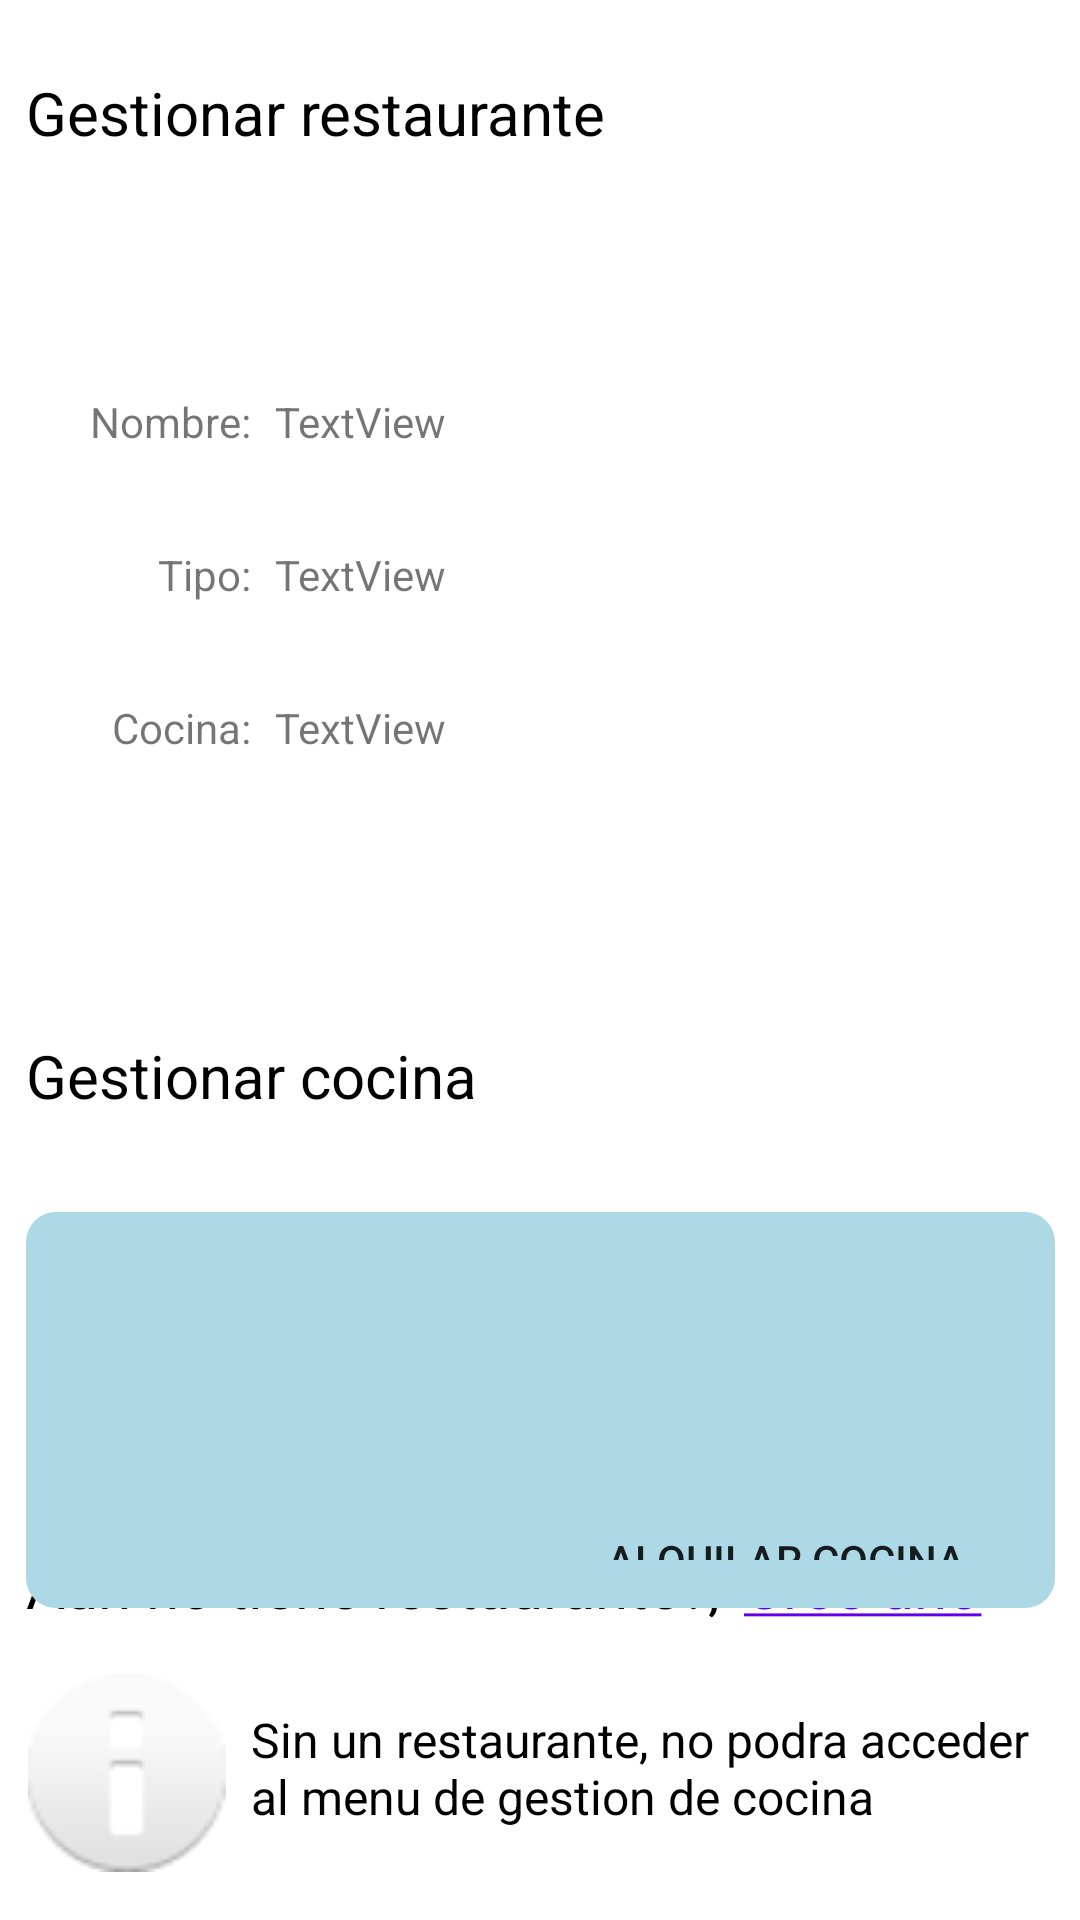

Icons on this 1080×1920 Android screen, each with its box as (x1=x1, y1=y1, x2=x2, y2=y2):
info: (x1=28, y1=1710, x2=226, y2=1872)
